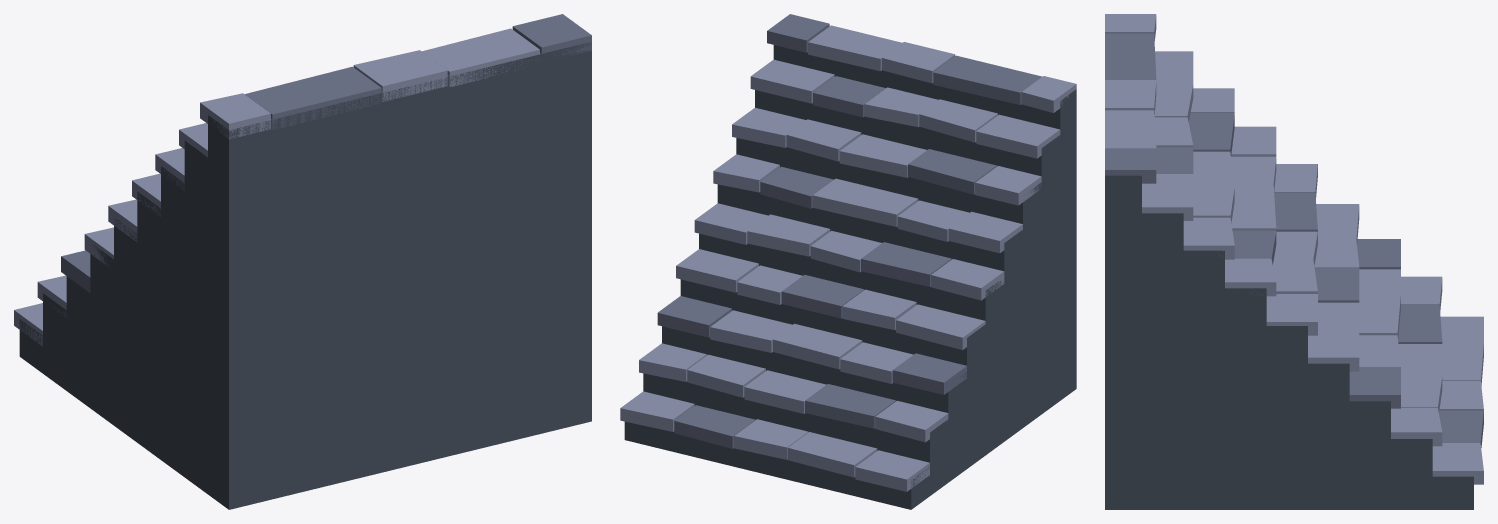
The model's file is Stairs2x2.fbx.
3 views of the same model, side by side, from view 1: azimuth 30°, elevation 25°; view 2: azimuth 150°, elevation 25°; view 3: azimuth 270°, elevation 25° (orthographic). The views are drawn at different scales.
Parts seen in each view (by area): view 1: Stairs2x2; view 2: Stairs2x2; view 3: Stairs2x2.
Part boxes in pixels (x1,y1,x2,y2): Stairs2x2: (14, 14, 591, 509); Stairs2x2: (620, 14, 1076, 509); Stairs2x2: (1105, 14, 1483, 509).
Bounding box in the file's own units: 2 × 2.03 × 2.05.
